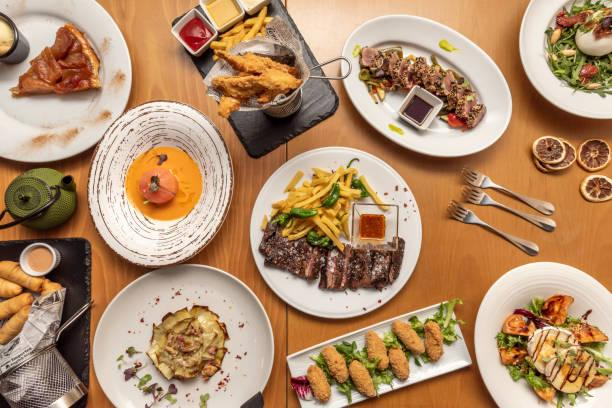Braised Crucian Carp: (248, 145, 416, 318), (90, 265, 270, 408), (179, 0, 338, 158), (340, 13, 509, 159), (90, 101, 232, 265), (4, 1, 133, 164), (473, 261, 611, 405), (285, 300, 472, 405), (0, 236, 93, 405), (516, 0, 610, 120)
